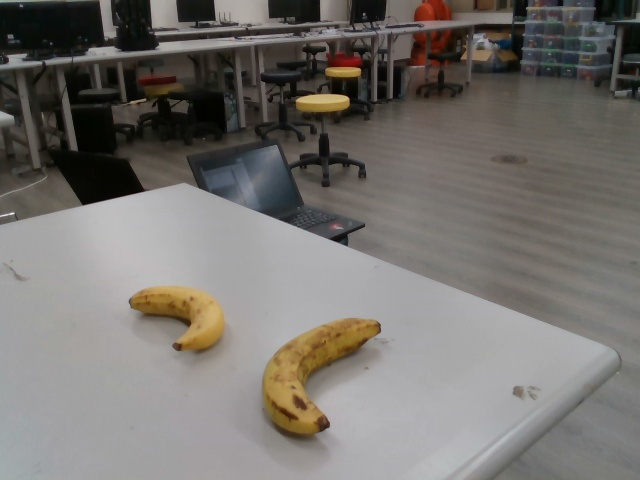banana: (260, 316, 384, 440), (127, 286, 225, 354)
